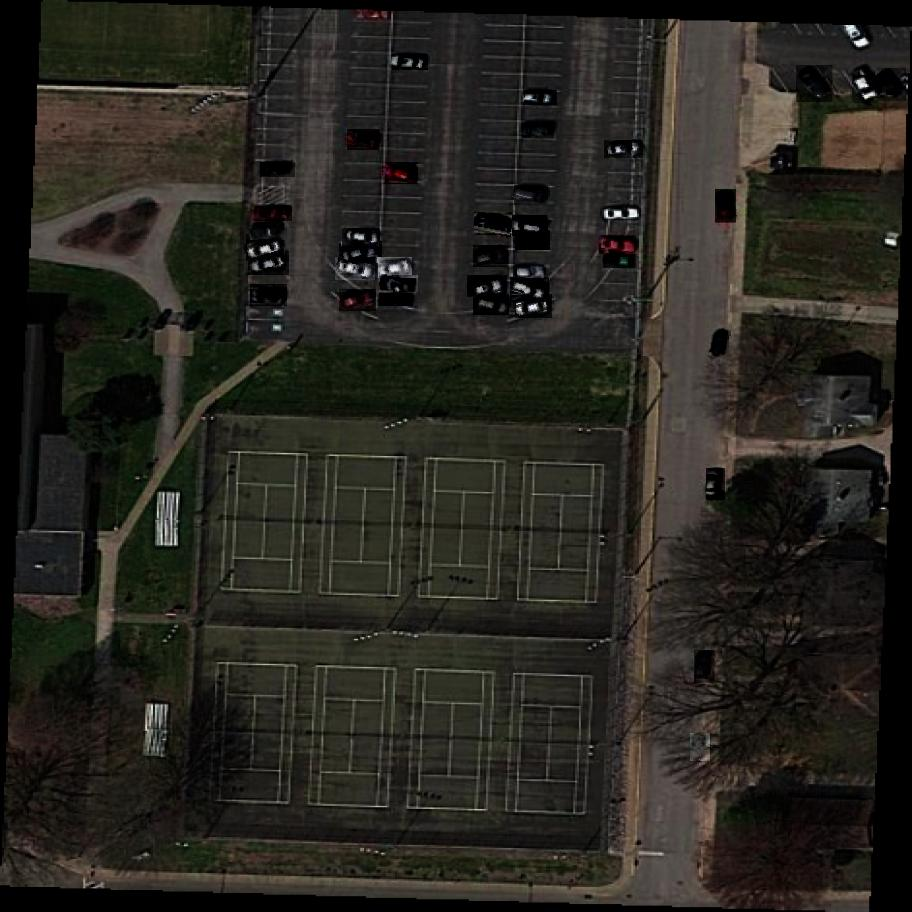small-vehicle: (796, 62, 833, 103), (246, 234, 288, 261), (509, 277, 550, 303), (335, 256, 376, 281), (878, 69, 908, 103), (474, 212, 513, 238), (340, 242, 384, 265), (248, 251, 289, 275), (516, 294, 555, 319), (852, 74, 880, 107), (250, 284, 288, 308), (467, 275, 508, 297), (339, 289, 377, 312), (250, 219, 289, 241), (510, 215, 549, 237), (383, 162, 420, 185), (473, 245, 509, 268), (474, 294, 511, 316), (378, 257, 413, 280), (694, 650, 717, 684), (709, 325, 732, 359), (512, 185, 549, 206), (605, 141, 645, 160), (600, 236, 638, 256), (516, 230, 552, 251), (379, 275, 418, 294), (342, 228, 380, 247), (348, 129, 382, 150), (716, 190, 737, 224), (690, 734, 713, 764), (393, 54, 429, 71), (524, 90, 557, 107), (706, 468, 724, 499), (254, 207, 292, 221), (260, 162, 294, 177), (379, 293, 414, 307), (604, 254, 636, 269), (523, 124, 554, 138), (517, 266, 544, 278)
